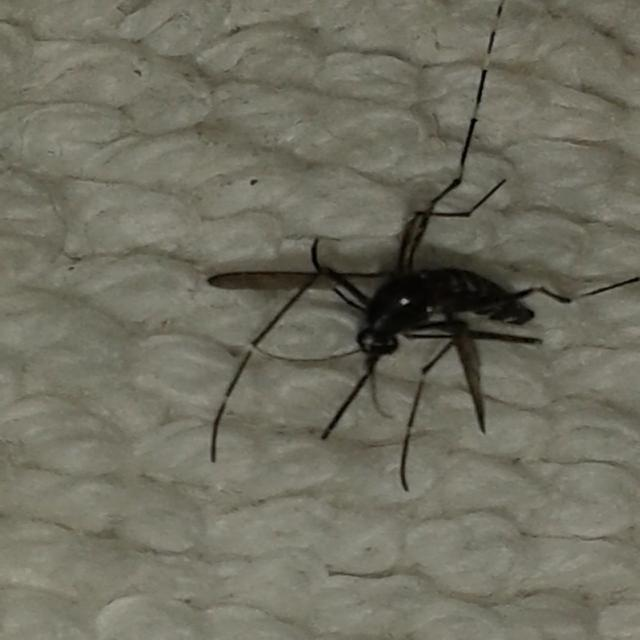albopictus: (147, 18, 638, 502)
